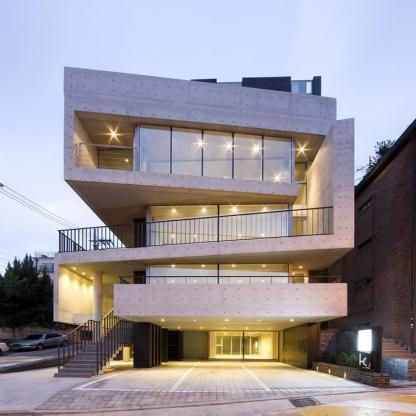Balcony: (58, 206, 332, 253), (118, 276, 342, 303), (78, 143, 136, 171)
Deco: (357, 327, 382, 373)
Door: (51, 66, 390, 387)
Facade: (51, 66, 391, 387)
Floor Slab: (54, 234, 354, 265), (64, 167, 297, 196), (113, 304, 348, 316)
Glass Wall: (139, 124, 291, 183), (150, 203, 288, 249), (149, 264, 288, 301), (210, 331, 278, 358)
Pillar: (93, 272, 101, 364)
Window: (98, 149, 133, 176), (291, 163, 306, 204), (291, 272, 306, 297), (218, 83, 240, 99), (291, 221, 306, 242), (292, 81, 311, 97)
